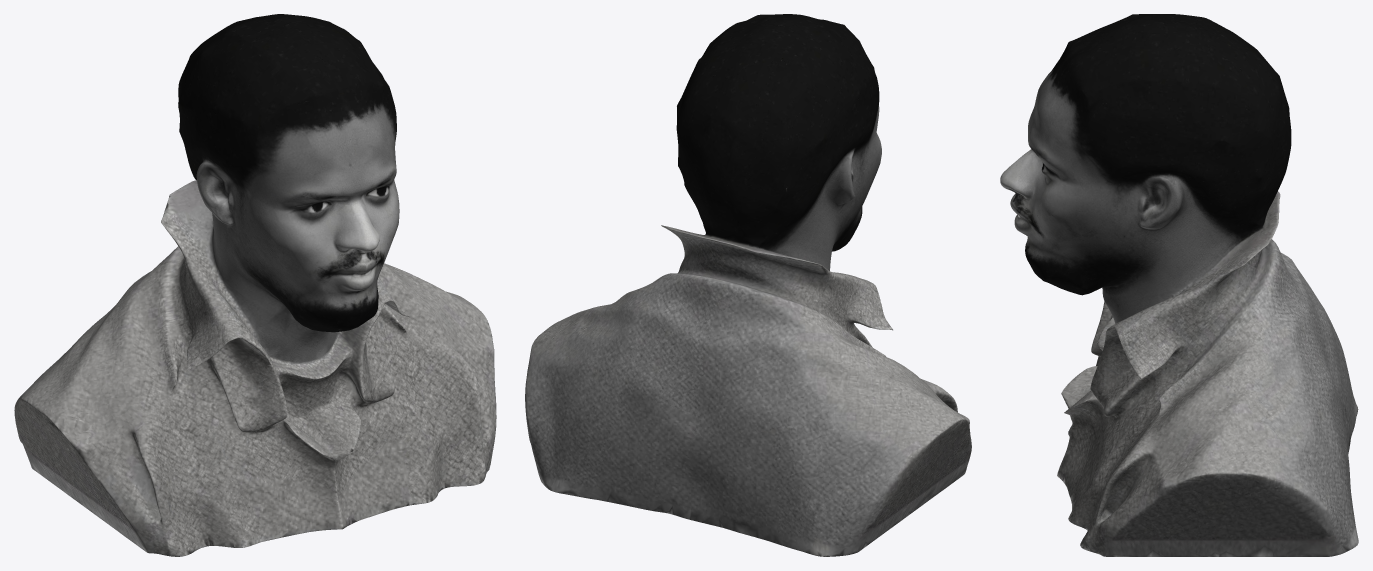
The model's file is steve-biko.glb.
The picture shows the model from 3 angles, left to right: view 1: azimuth 30°, elevation 25°; view 2: azimuth 150°, elevation 25°; view 3: azimuth 270°, elevation 25°; orthographic projection. The views are drawn at different scales.
Bounding box in the file's own units: 1.85 × 1.89 × 1.36.
1 material, 1 textured.
